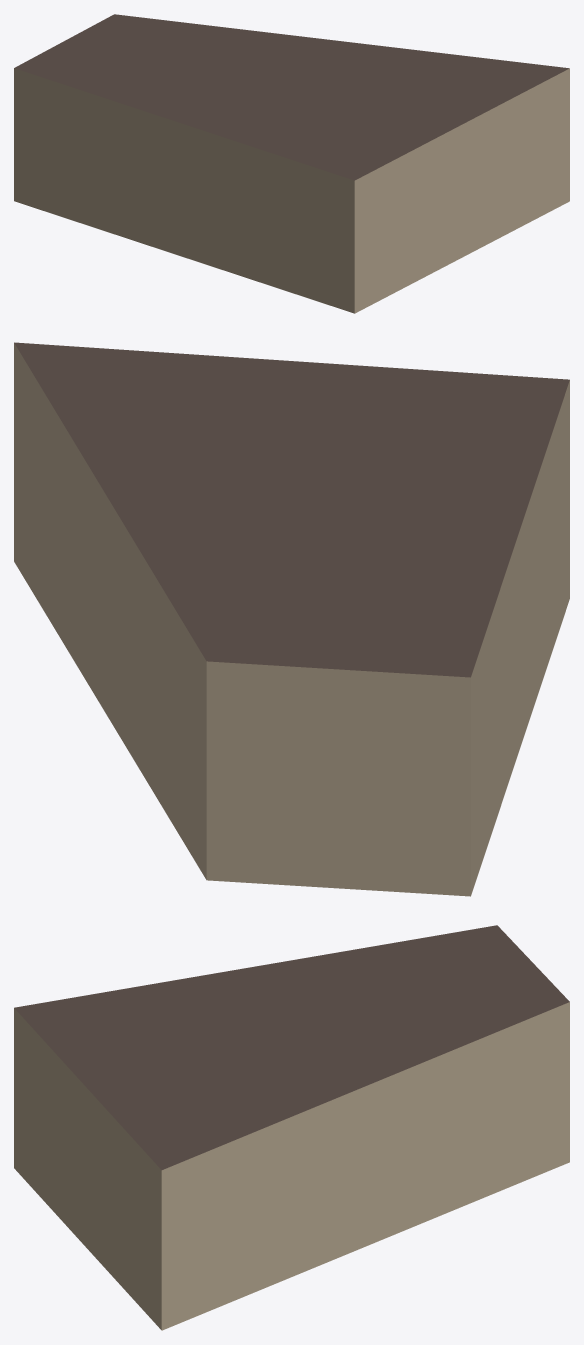
3 renders of one model, top to bottom at view 1: azimuth 30°, elevation 25°; view 2: azimuth 150°, elevation 25°; view 3: azimuth 270°, elevation 25°, orthographic. The views are drawn at different scales.
Parts seen in each view (by area): view 1: HP-w369342505; view 2: HP-w369342505; view 3: HP-w369342505.
Part boxes in pixels (x1,y1,x2,y2): HP-w369342505: [14, 14, 569, 313]; HP-w369342505: [14, 342, 569, 896]; HP-w369342505: [14, 925, 569, 1330].
Bounding box in the file's own units: 29.5 × 9 × 28.27.
